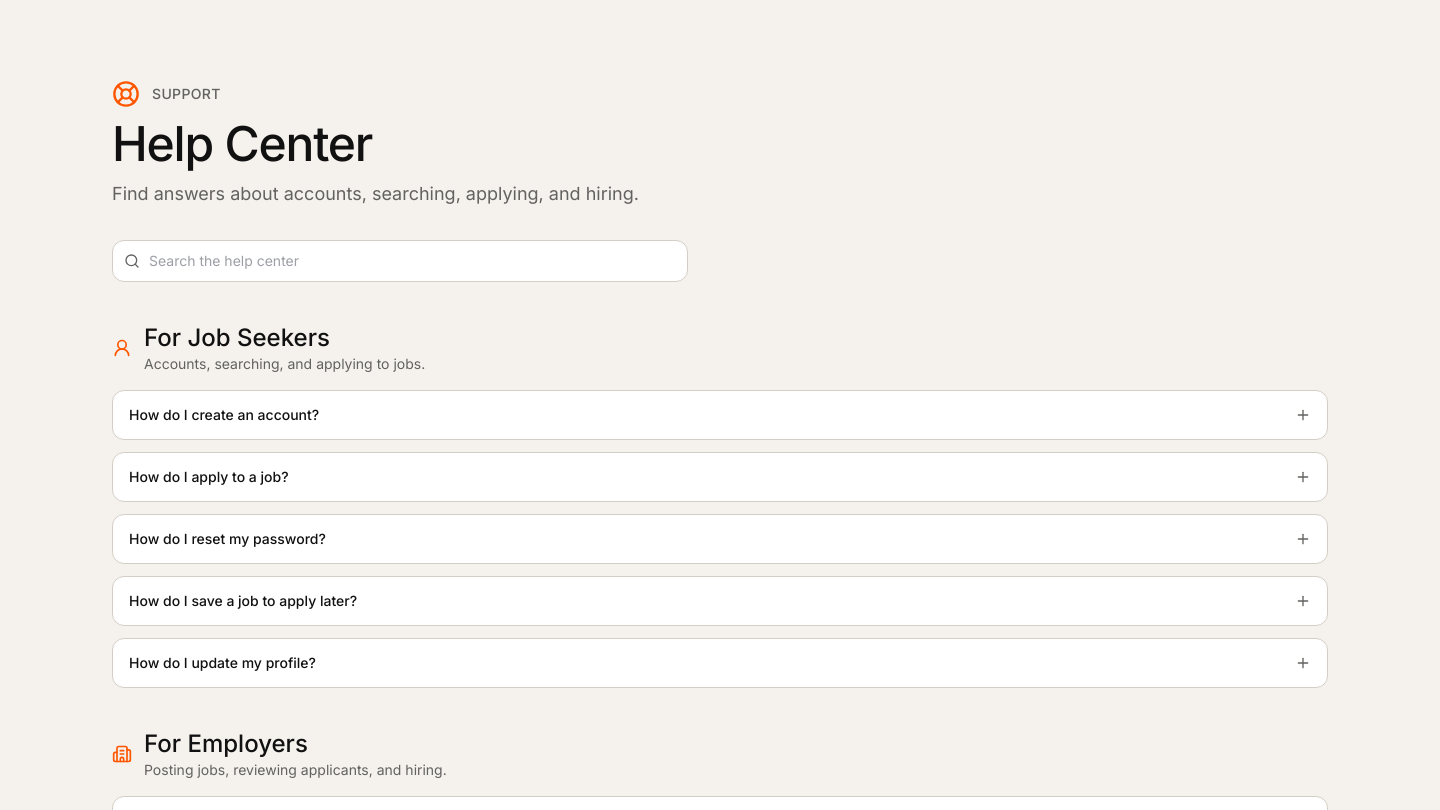
Scenario: HelpCenterPage › filters articles as the user types
In the field labelled "Search the help center": coordinates (400, 261) [112,240,688,282], type "reset my password"
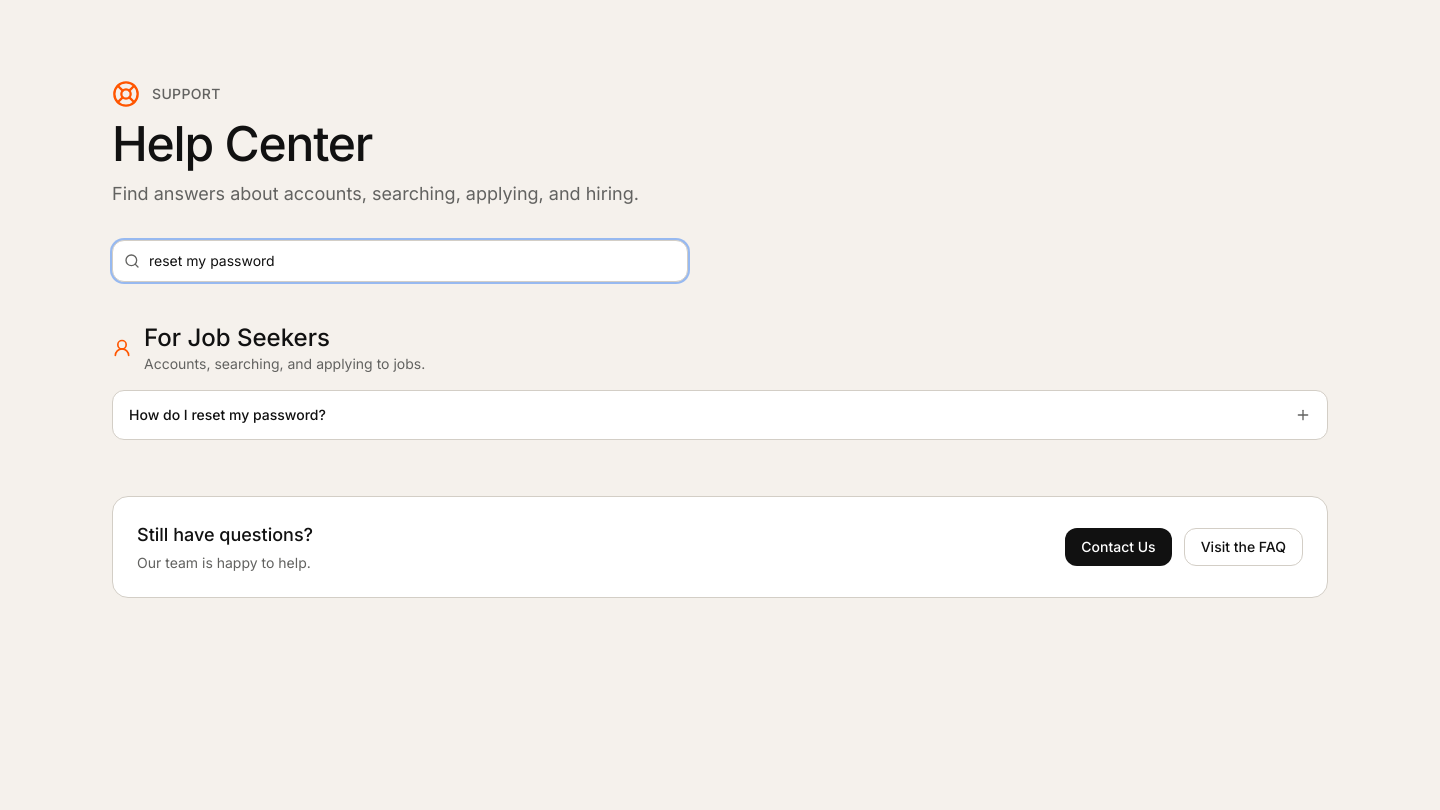
Check: the text "How do I reset my password?" is shown, box [129,405,326,425]
Check: the heading "How do I create an account?" is gone
